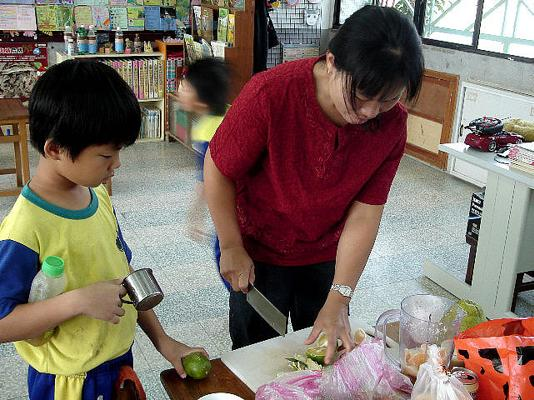person: (204, 7, 423, 366)
